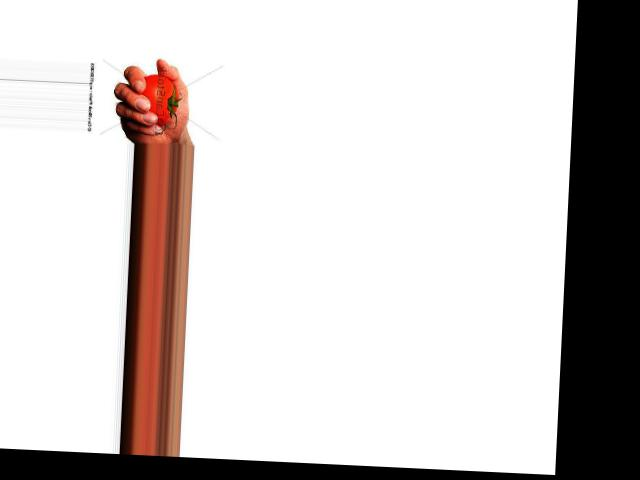tomato: (141, 73, 179, 126)
